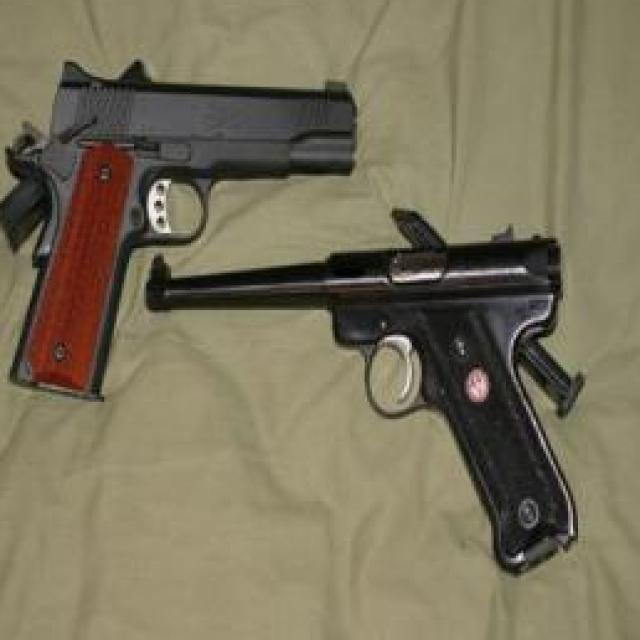pistol: (140, 243, 588, 568), (5, 42, 365, 407)
